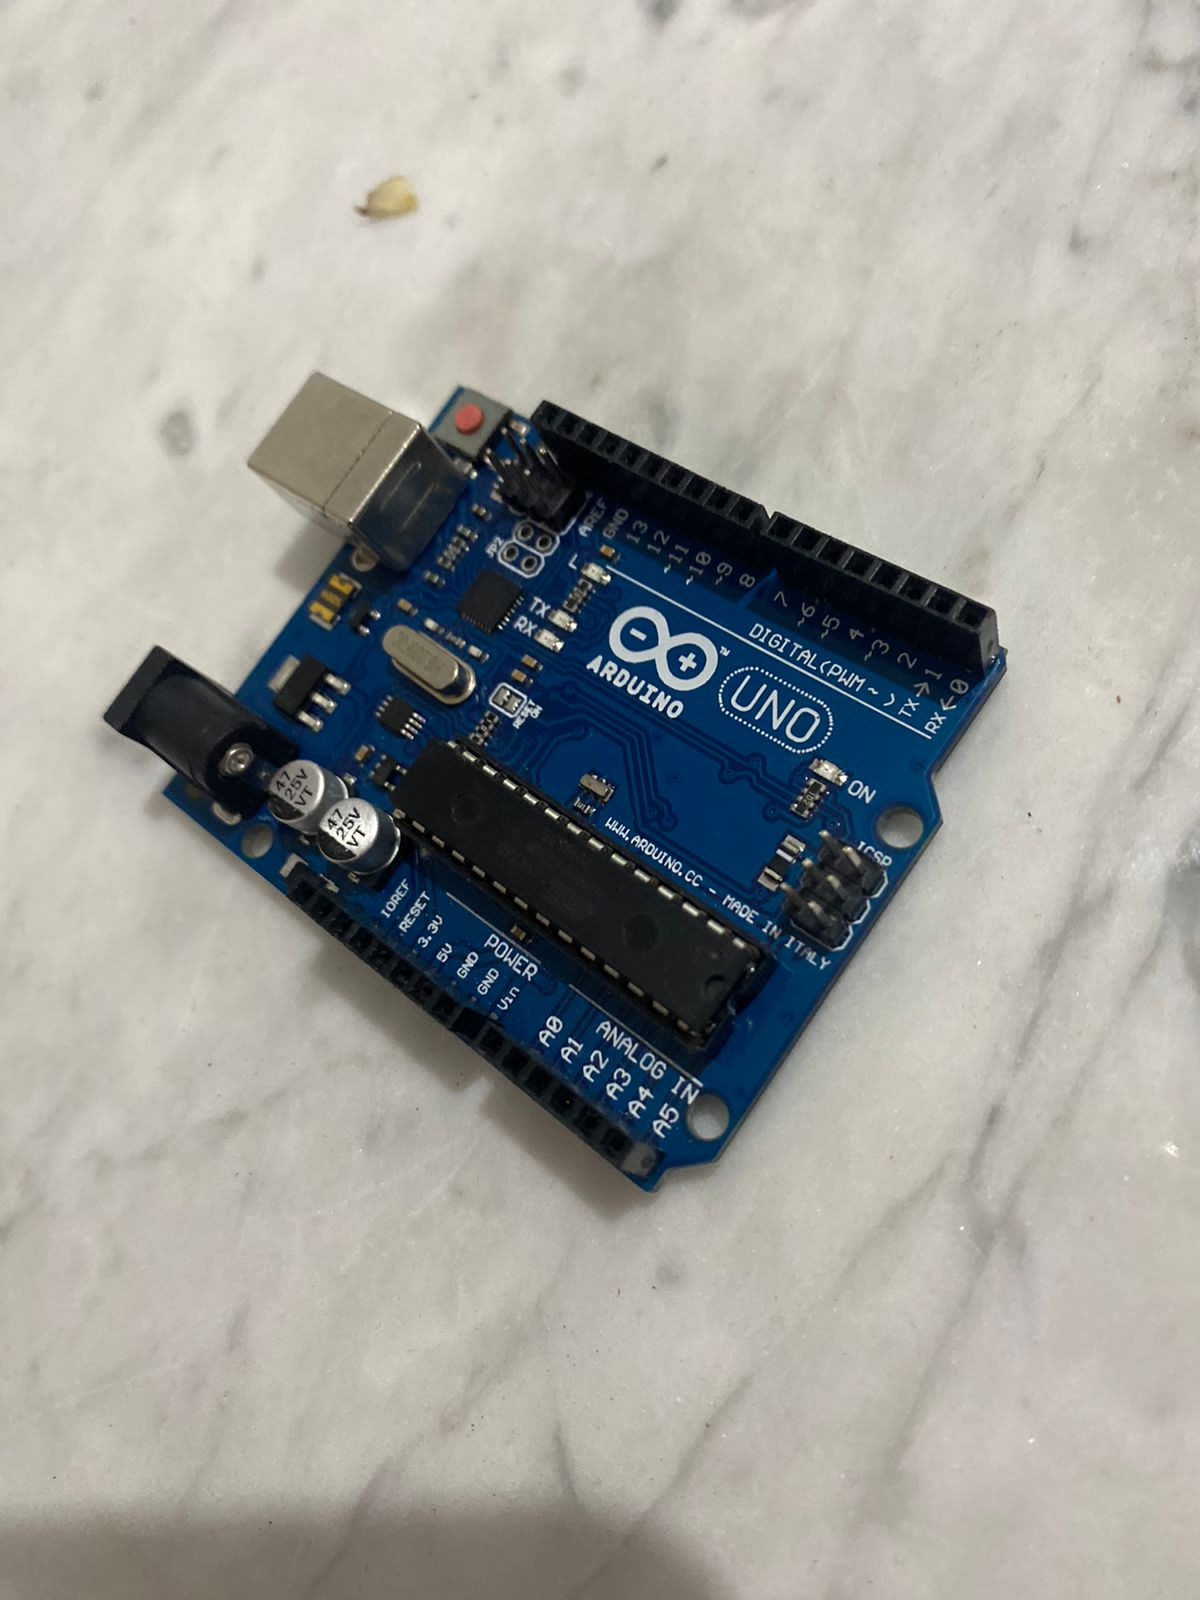arduino-uno: (107, 319, 1016, 1204)
